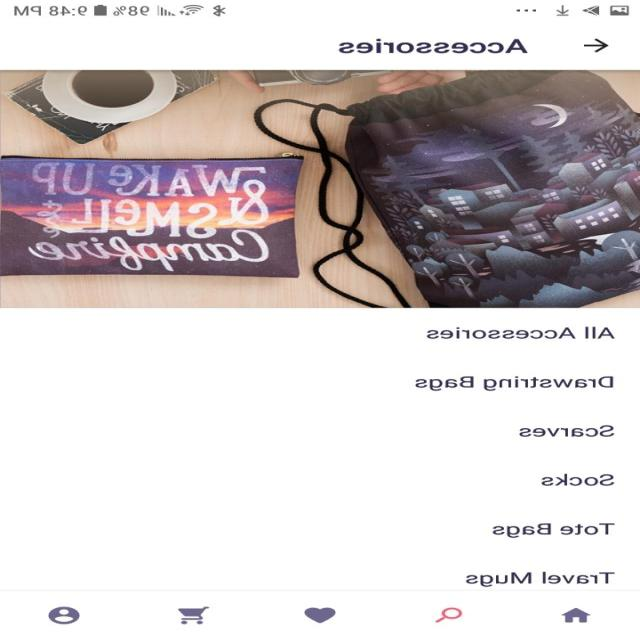Icon: (178, 605, 210, 624), (49, 606, 81, 624), (304, 606, 337, 623), (436, 606, 464, 623), (560, 607, 590, 622), (584, 38, 610, 53)
Image: (1, 70, 640, 308)
Text: (338, 38, 528, 54), (415, 376, 614, 391), (426, 326, 616, 339), (466, 571, 616, 587), (492, 523, 616, 538), (519, 425, 615, 437), (541, 473, 615, 486)
